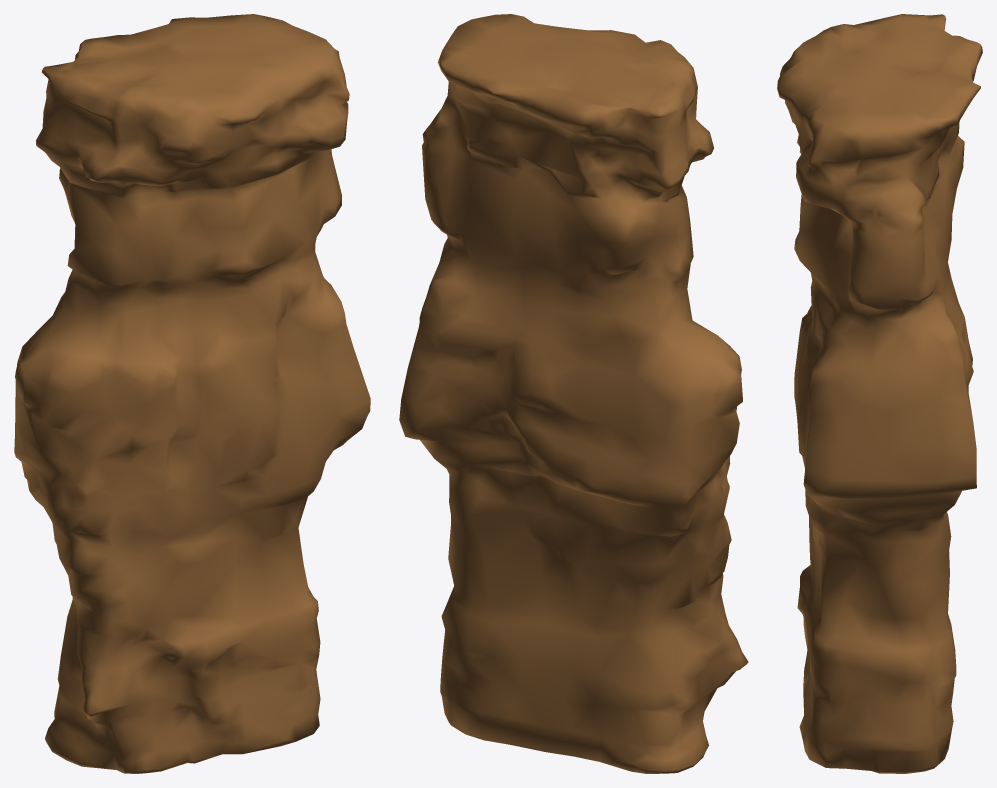
File: MSH_Rocks_Cliff_08_a.FBX
3 renders of one model, left to right at view 1: azimuth 30°, elevation 25°; view 2: azimuth 150°, elevation 25°; view 3: azimuth 270°, elevation 25°, orthographic. The views are drawn at different scales.
Parts seen in each view (by area): view 1: MESH_LOD0; view 2: MESH_LOD0; view 3: MESH_LOD0.
Boxes of the visible parts, <box> form: MESH_LOD0: <box>14,14,370,773</box>; MESH_LOD0: <box>399,14,748,773</box>; MESH_LOD0: <box>777,14,982,773</box>.
Size of what is drawn, in the model's own units: 325 by 679 by 191.
